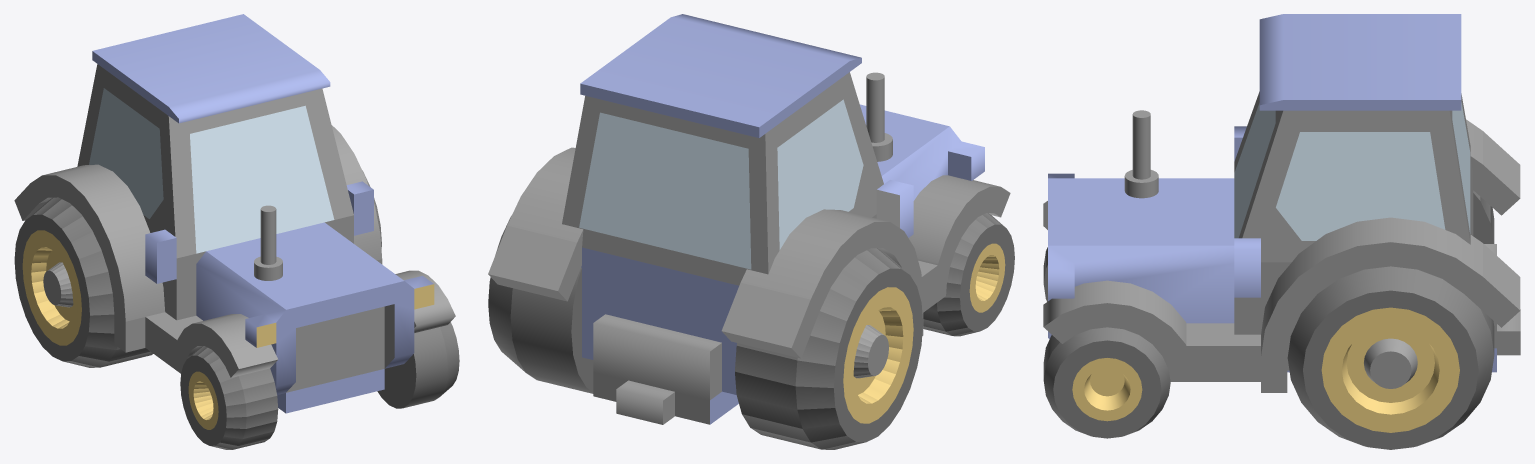
File: car1.fbx
3 renders of one model, left to right at view 1: azimuth 30°, elevation 25°; view 2: azimuth 150°, elevation 25°; view 3: azimuth 270°, elevation 25°, orthographic. The views are drawn at different scales.
Visible parts, largest first — view 1: car; view 2: car; view 3: car.
Part boxes in pixels (x1=…): car: x1=14, y1=14, x2=459, y2=449; car: x1=488, y1=14, x2=1014, y2=449; car: x1=1043, y1=14, x2=1520, y2=449.
Size of the model in its own units: 299 by 272 by 363.
